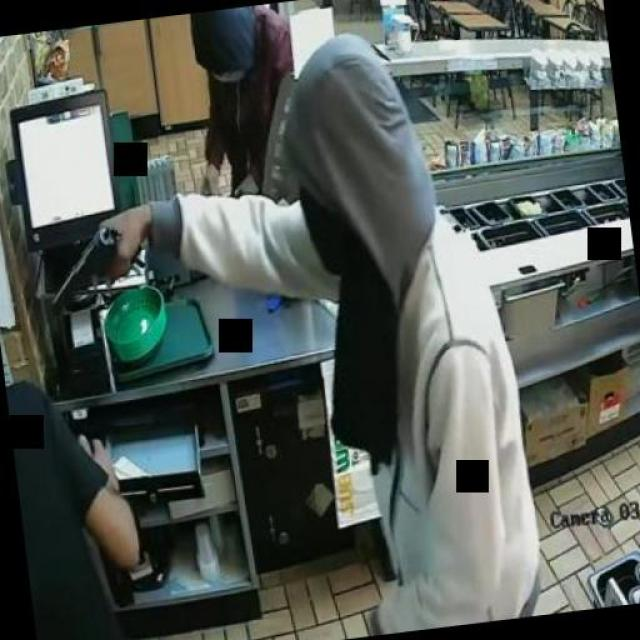gun: (38, 214, 142, 312)
